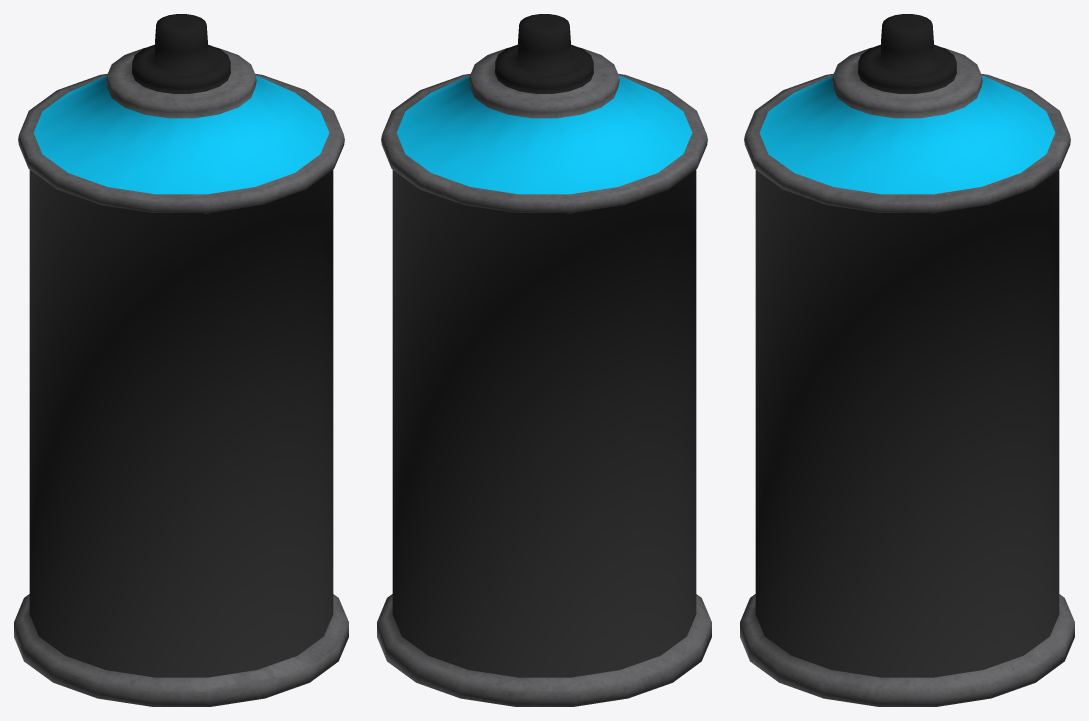
Rendered from skatepark_spray_can.fbx.
3 renders of one model, left to right at view 1: azimuth 30°, elevation 25°; view 2: azimuth 150°, elevation 25°; view 3: azimuth 270°, elevation 25°, orthographic.
Visible parts, largest first — view 1: spray_can; view 2: spray_can; view 3: spray_can.
Boxes of the visible parts, x1,y1,x2,y2 form: spray_can: (14, 14, 348, 706); spray_can: (377, 14, 711, 706); spray_can: (740, 14, 1074, 706).
Bounding box in the file's own units: 6.95 × 14.3 × 7.06.
4 materials, 1 textured.
